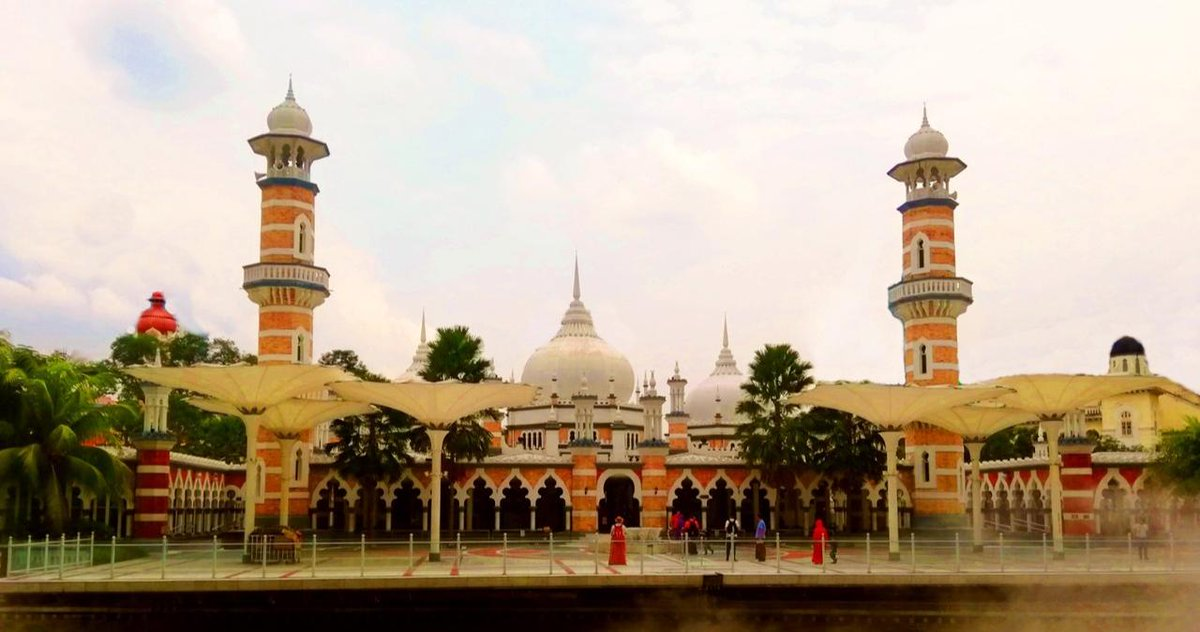Mosque: (145, 97, 1009, 533)
